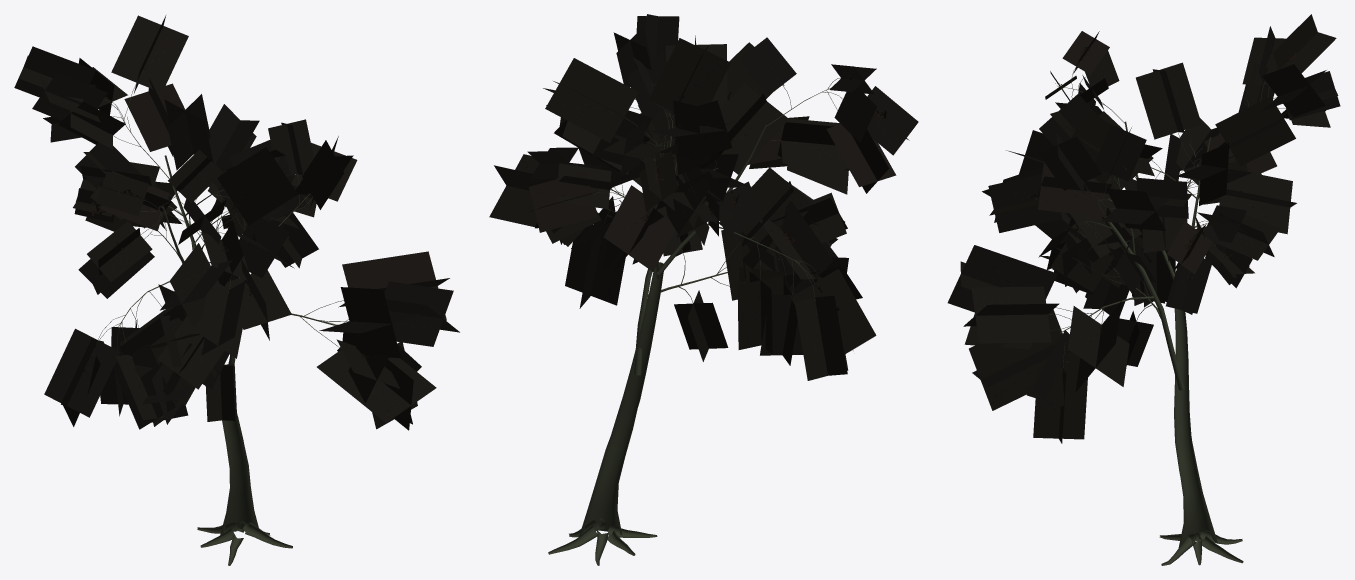
Rendered from Arbol_Seco_Bifurcado.glb.
3 renders of one model, left to right at view 1: azimuth 30°, elevation 25°; view 2: azimuth 150°, elevation 25°; view 3: azimuth 270°, elevation 25°, orthographic. The views are drawn at different scales.
Parts seen in each view (by area): view 1: Arbol_Seco_Bifurcado; view 2: Arbol_Seco_Bifurcado; view 3: Arbol_Seco_Bifurcado.
Boxes of the visible parts, bbox=[...] form: Arbol_Seco_Bifurcado: bbox=[14, 15, 459, 565]; Arbol_Seco_Bifurcado: bbox=[489, 14, 918, 565]; Arbol_Seco_Bifurcado: bbox=[947, 14, 1340, 565].
Size of the model in its own units: 17.2 by 22.45 by 16.8.
3 materials, 2 textured.
